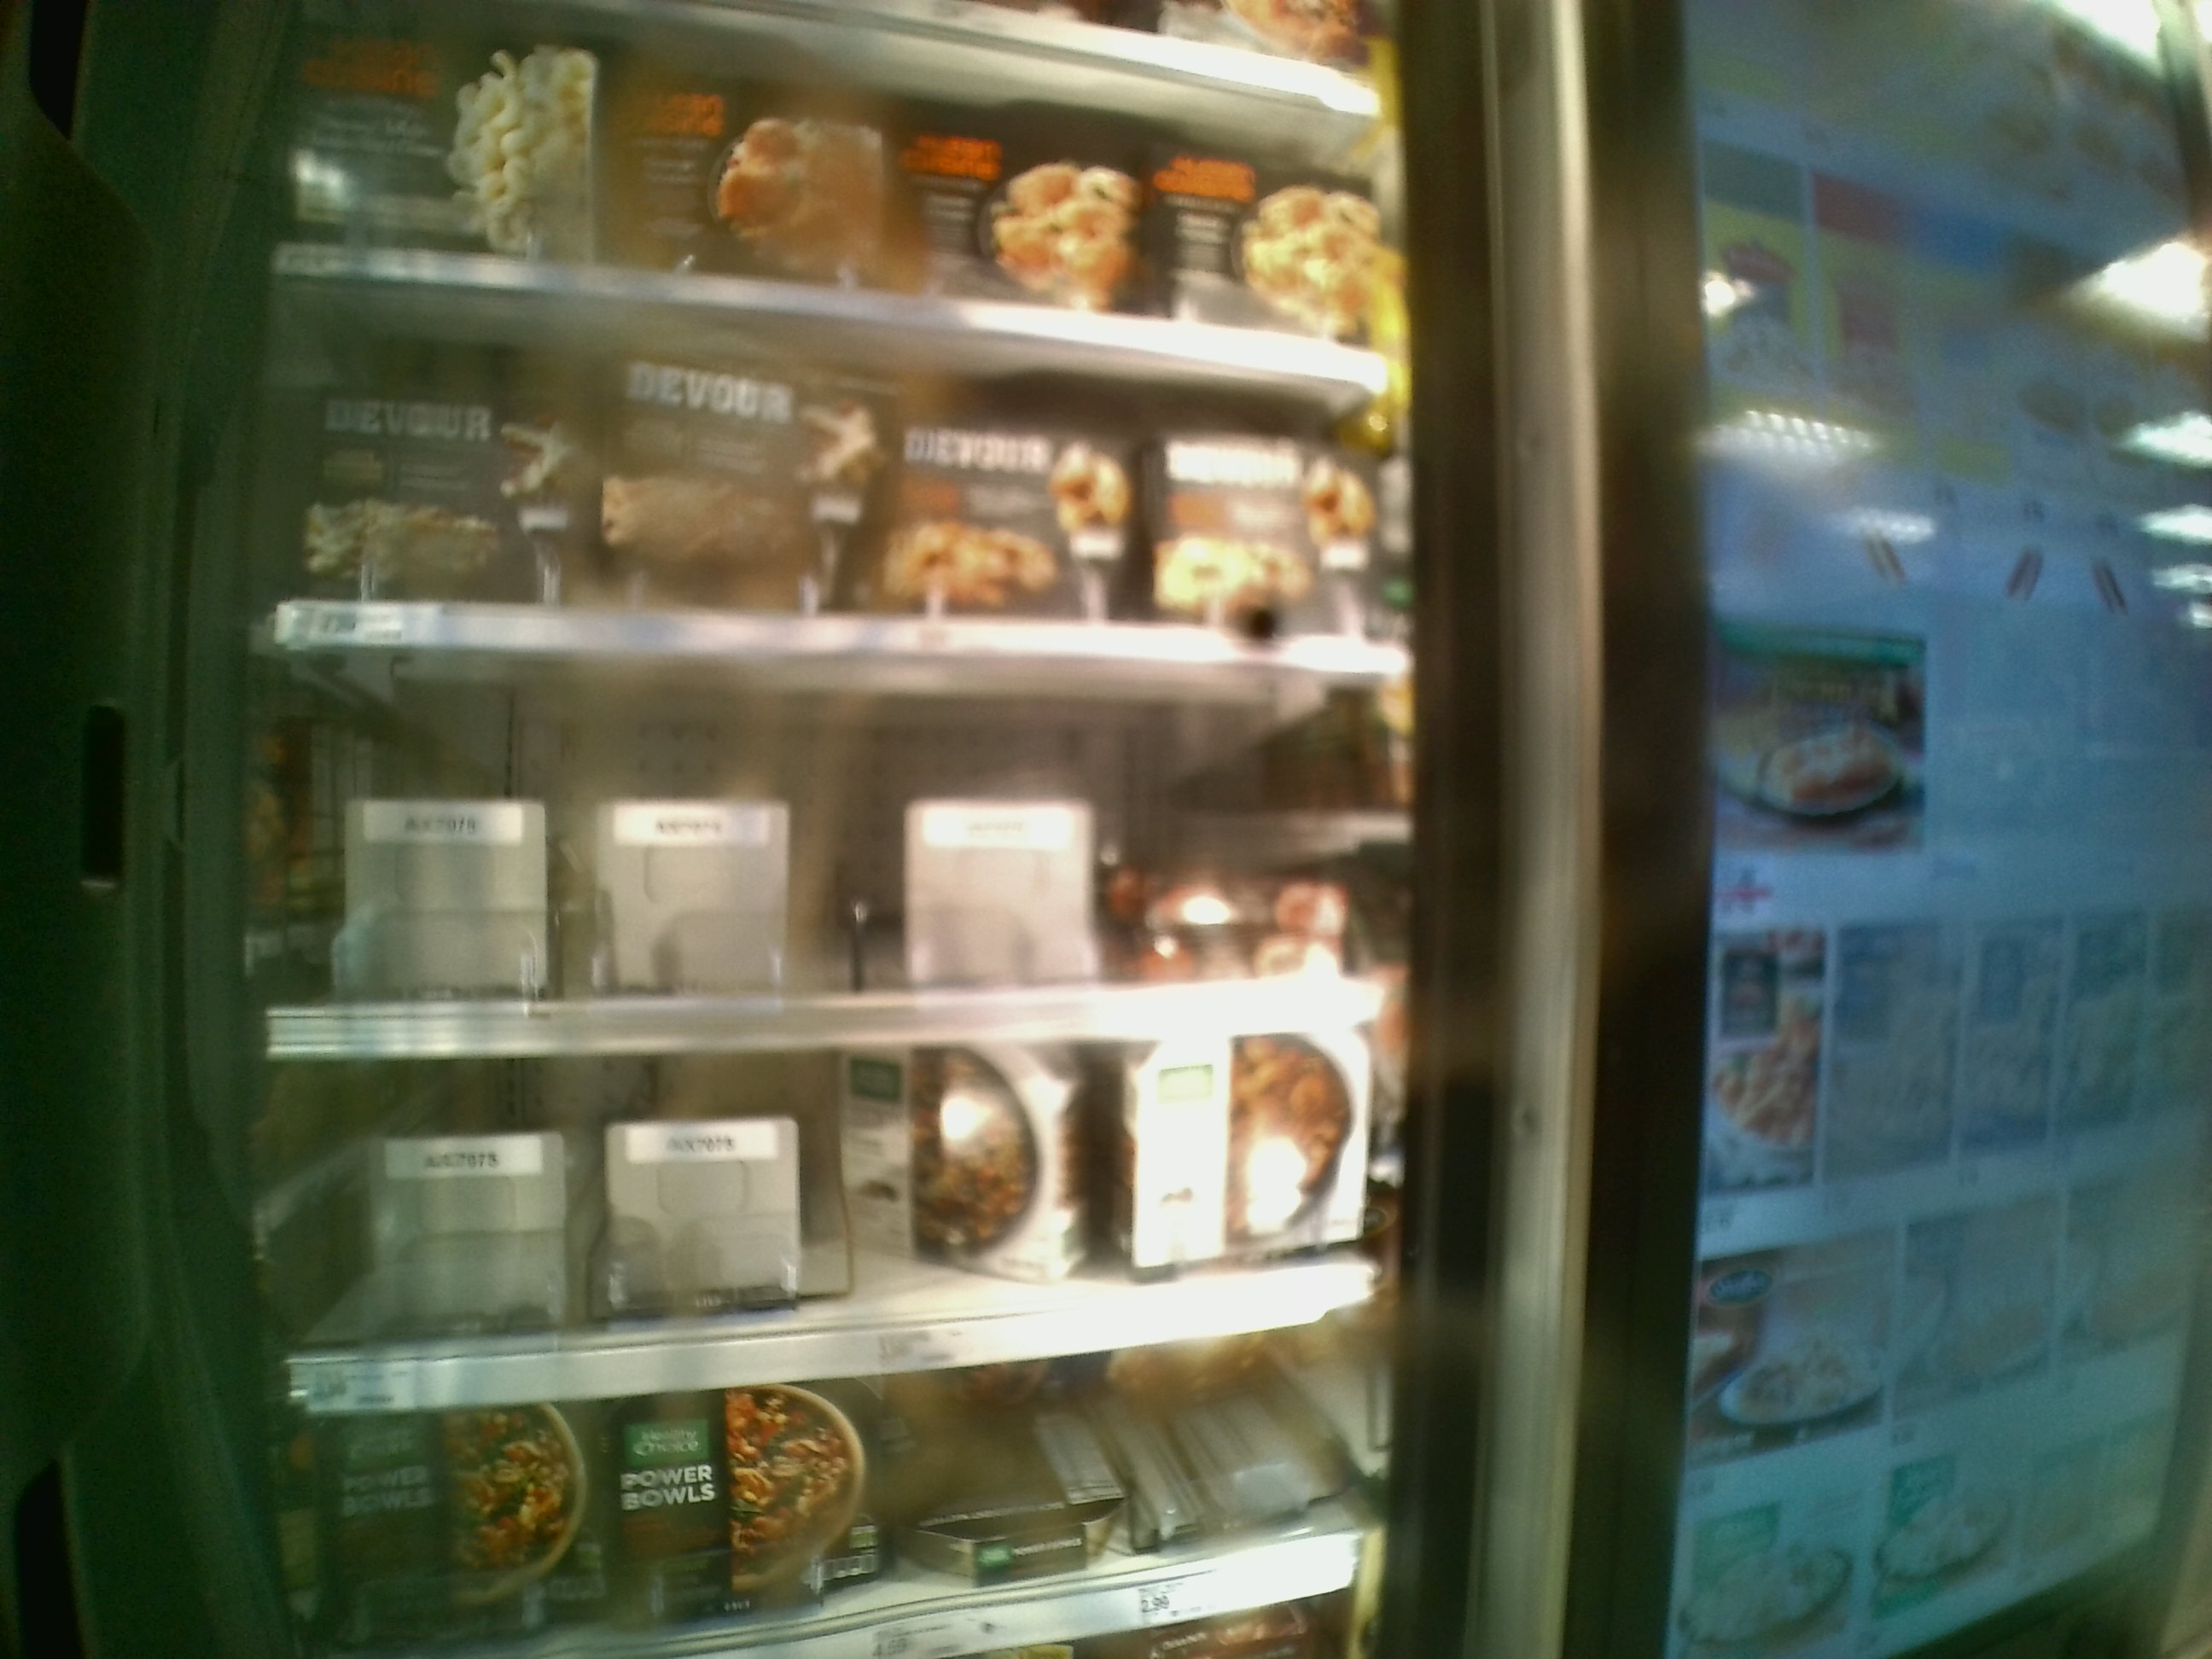shelf: (270, 641, 1411, 1054), (270, 1009, 1399, 1417)
